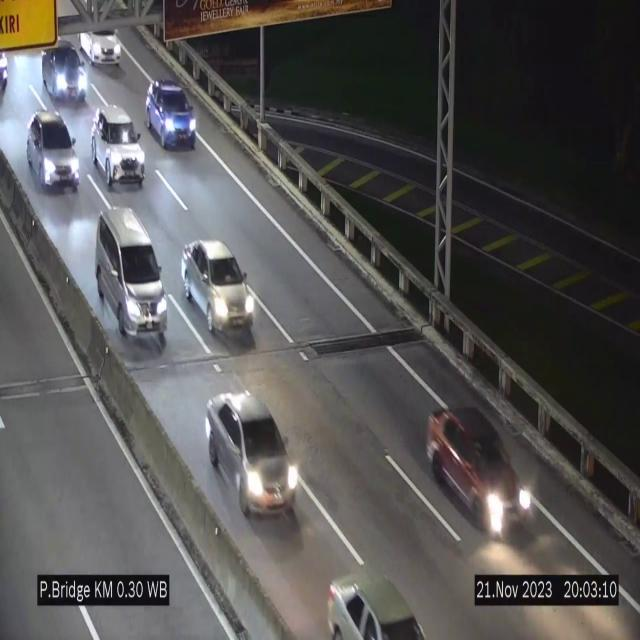Car: (426, 400, 534, 538), (208, 382, 302, 527), (95, 208, 167, 346), (320, 557, 426, 640), (181, 240, 255, 337), (92, 105, 144, 189), (27, 113, 79, 190), (146, 78, 197, 148), (43, 36, 92, 102), (78, 16, 128, 68)
